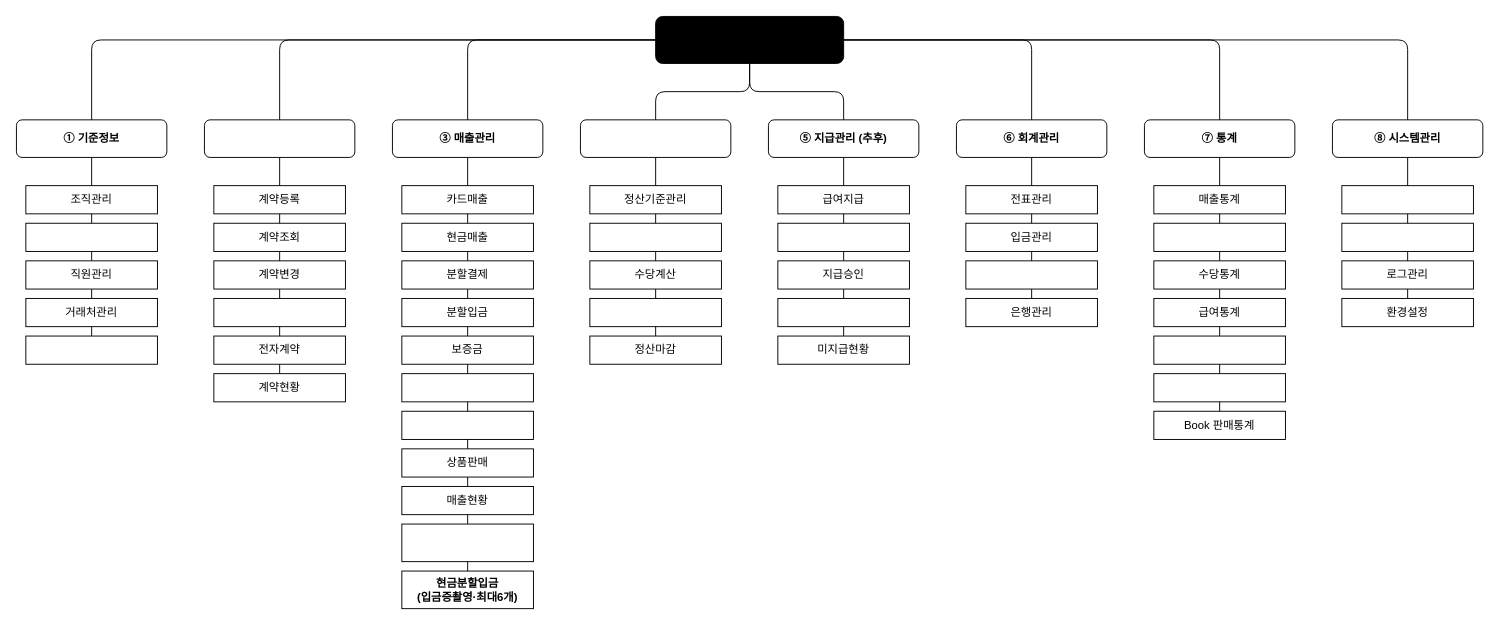
Image size: 1499x625. Some labels were removed from this diagram. The shapes that lost their labels are listed below. From the top down, each one's centre as x and y in pixels, then its label:
At point 749,39: "Settlement Manager".
At point 279,138: "② 계약관리".
At point 655,138: "④ 정산센터".
At point 1407,199: "권한관리".
At point 91,236: "부서관리".
At point 655,236: "정산계산".
At point 843,236: "수당지급".
At point 1219,236: "계약통계".
At point 1407,236: "사용자관리".
At point 1031,274: "출금관리".
At point 279,312: "계약이력".
At point 655,312: "급여계산".
At point 843,312: "지급내역".
At point 91,349: "상품관리".
At point 1219,349: "점주통계".
At point 467,387: "계약금".
At point 1219,387: "LAS-On 통계".
At point 467,424: "구독료".
At point 467,542: "카드분할매출 (전표촬영·최대6개)".
